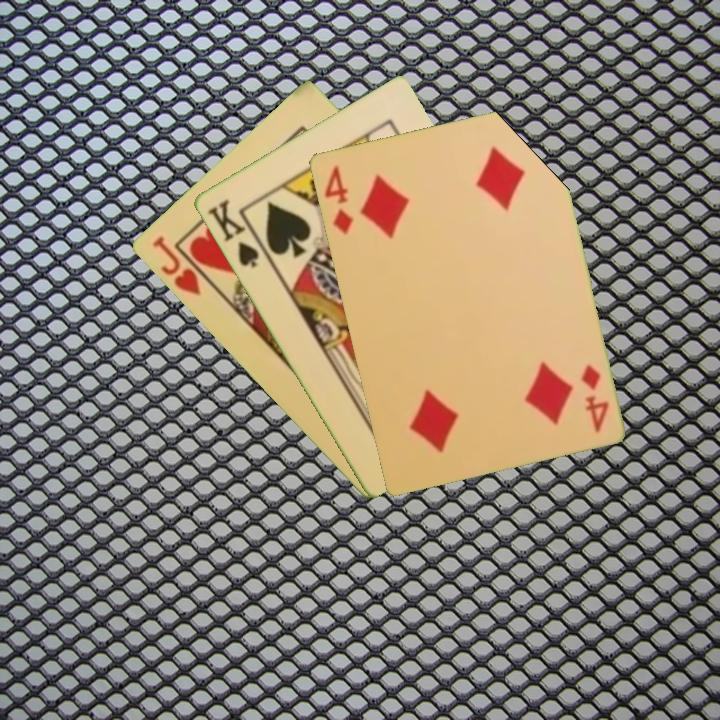4d: (320, 161, 356, 238), (577, 360, 611, 435)
Jh: (148, 232, 204, 299)
Ks: (203, 195, 269, 271)
